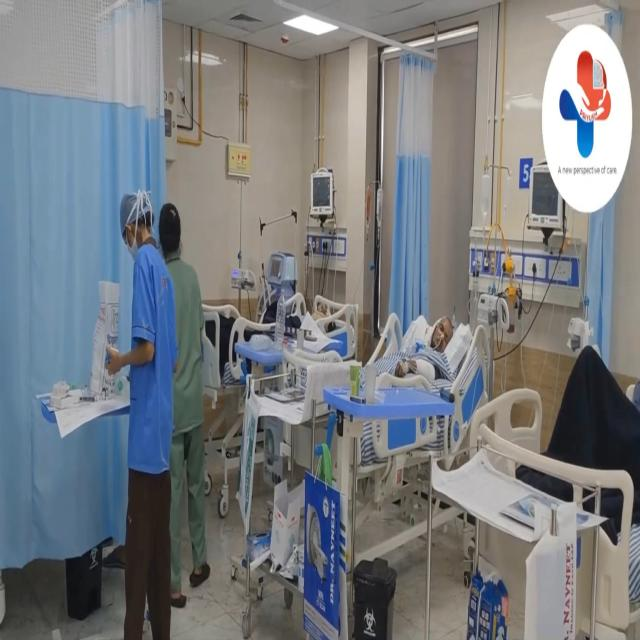Nurse: (111, 183, 177, 640), (160, 190, 228, 602)
Patient: (400, 293, 477, 408), (301, 284, 343, 358)
